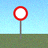sign: (13, 6, 28, 39)
